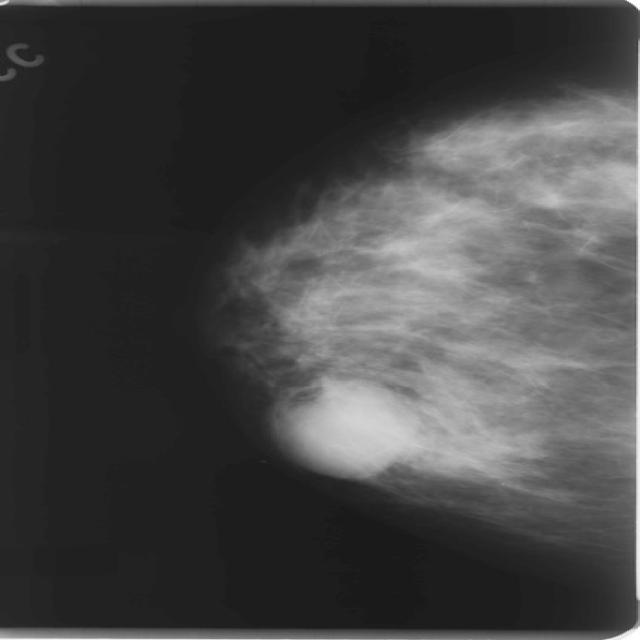tumour: (266, 378, 418, 479)
